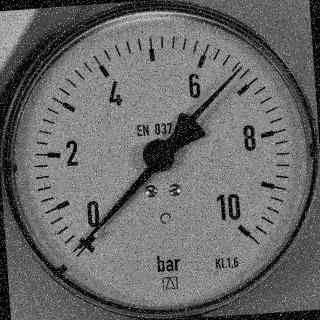gauge: (1, 0, 320, 320), (142, 138, 176, 172), (224, 210, 253, 244), (74, 230, 102, 260), (69, 235, 91, 258), (233, 62, 247, 76)
